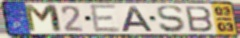2: (60, 5, 85, 33)
A: (121, 5, 154, 32)
B: (183, 5, 215, 33)
E: (88, 4, 122, 34)
M: (22, 3, 65, 34)
S: (156, 4, 186, 33)
